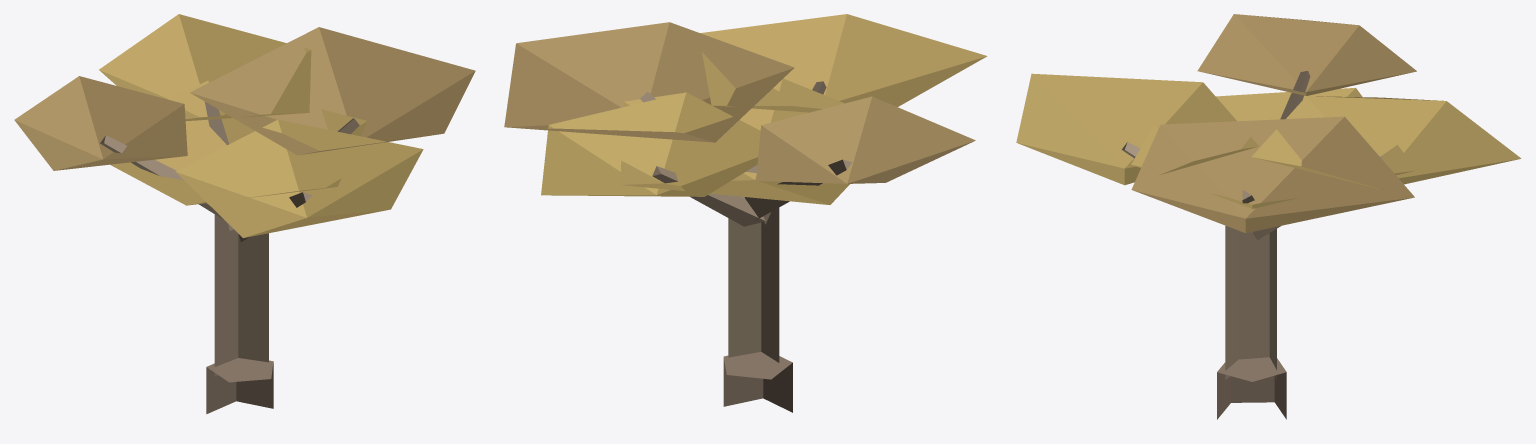
File: tree.sub.acacia__autumn.glb
3 renders of one model, left to right at view 1: azimuth 30°, elevation 25°; view 2: azimuth 150°, elevation 25°; view 3: azimuth 270°, elevation 25°, orthographic. The views are drawn at different scales.
Visible parts, largest first — view 1: tree.sub.acacia__autumn; view 2: tree.sub.acacia__autumn; view 3: tree.sub.acacia__autumn.
Part boxes in pixels (<box>): tree.sub.acacia__autumn: <box>14,14,475,414</box>; tree.sub.acacia__autumn: <box>504,14,987,412</box>; tree.sub.acacia__autumn: <box>1016,14,1521,419</box>.
Bounding box in the file's own units: 8.67 × 6.51 × 8.79.
